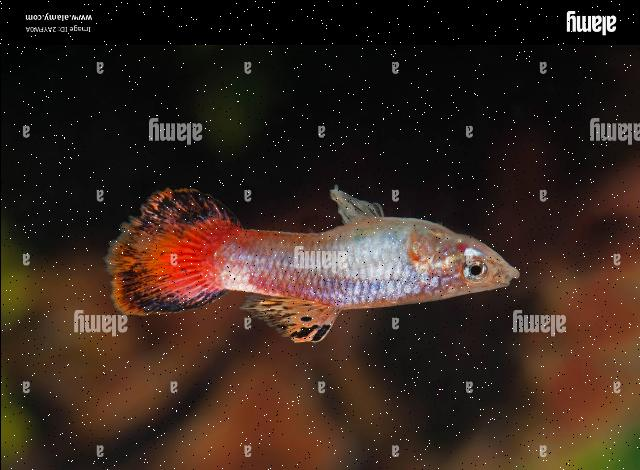Mulut: (462, 234, 542, 312)
Sirip Dada: (334, 228, 438, 288)
Sirip Ekor: (84, 178, 248, 322)
Sirip Perut: (320, 167, 398, 244)
Sirip Punggung: (230, 278, 358, 358)
